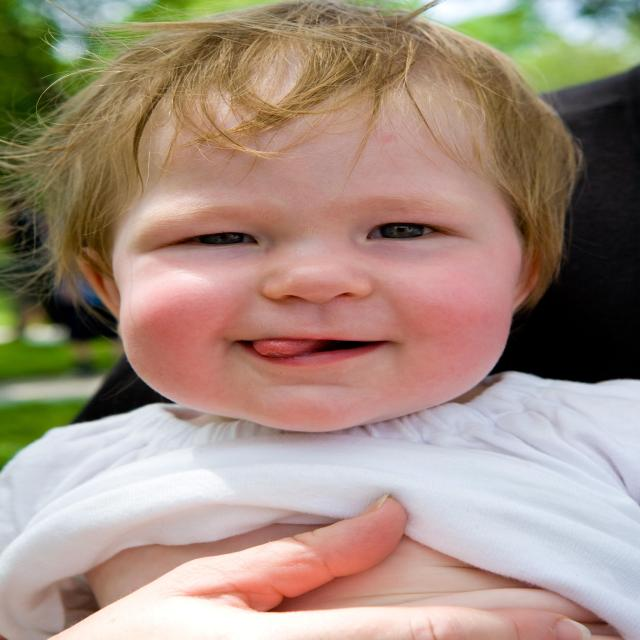no-glass: (148, 214, 452, 250)
